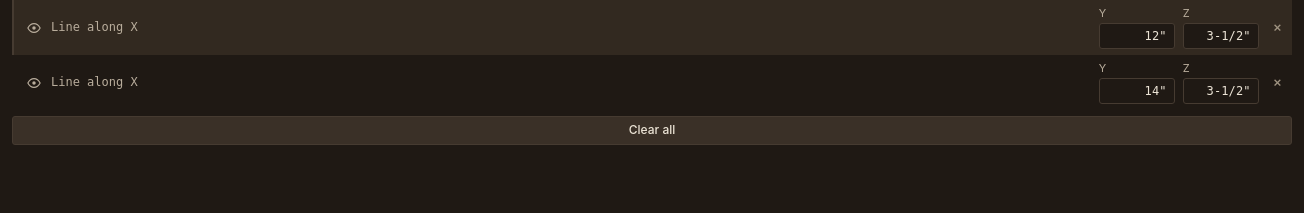
Test: GuidesList editing (construction-lines-2 spec §5) › a value equal to another line is refused with its reason
Replace the text in the field named "Y of line along X at Y 12\", Z 3-1/2\"" with "14" at [1137, 36], box left=1099, top=23, right=1175, bottom=49
Then press Enter
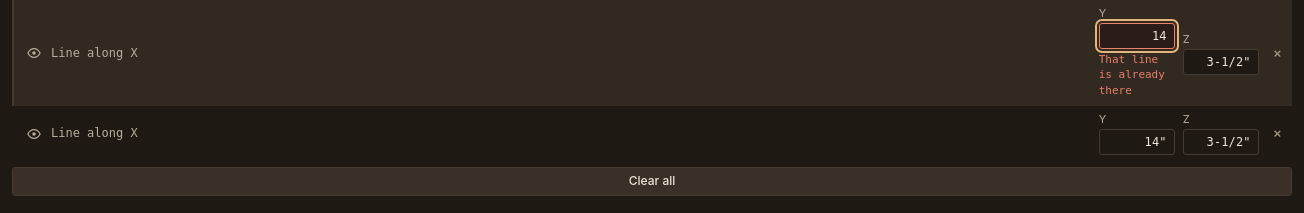
Expected: the text "That line is already there" is shown, left=1099, top=52, right=1175, bottom=98
